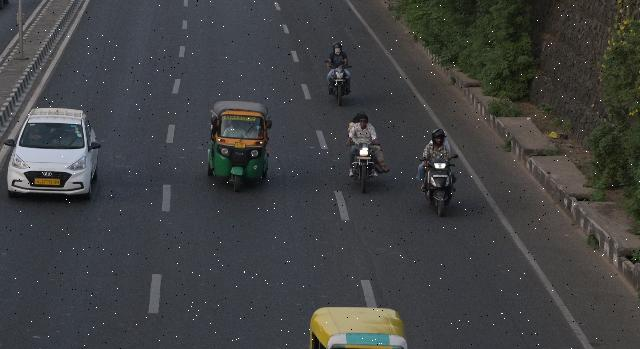With Helmet: (430, 128, 446, 146), (333, 42, 342, 54)
Without Helmet: (358, 115, 372, 127)
